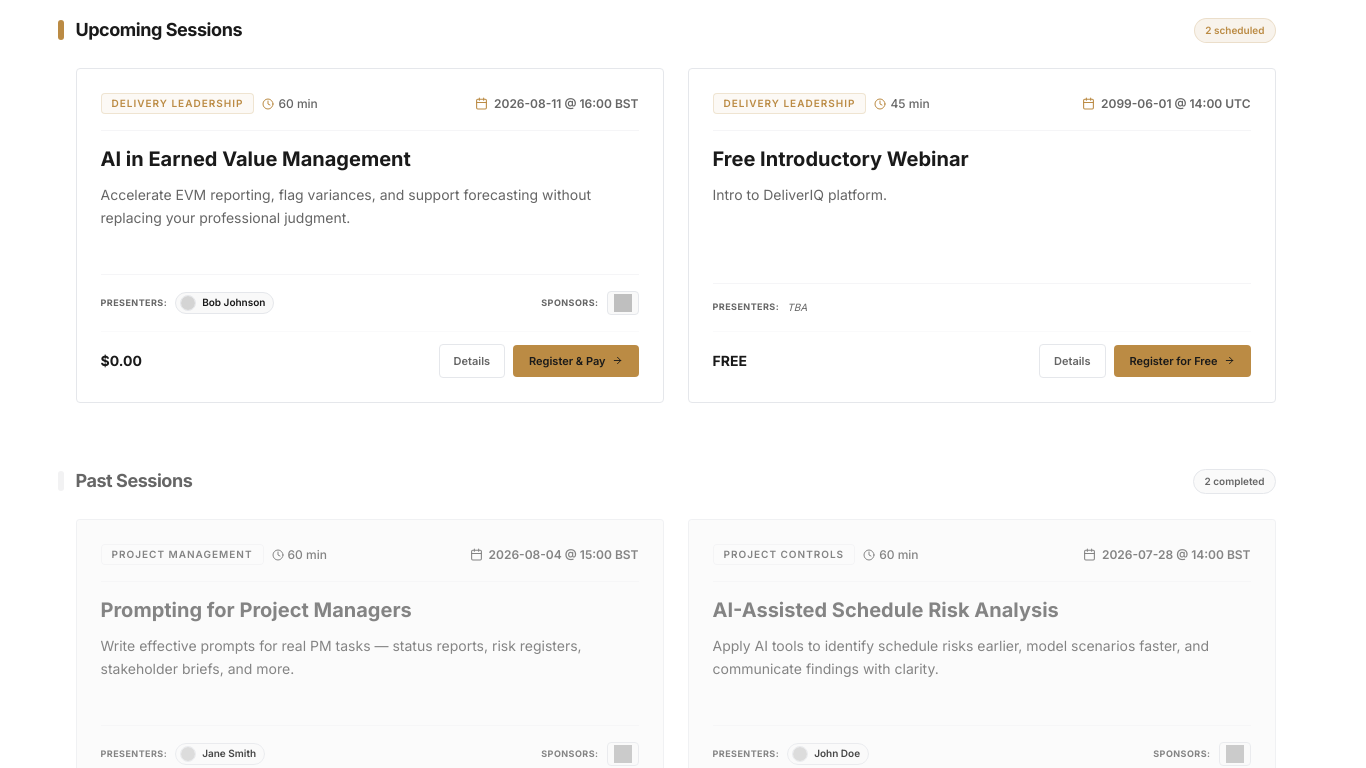
Test: SessionsList Pricing Display › renders Free · Included badge for free sessions inside modal
This screenshot has width=1366, height=768.
// Open session modal by clicking title
Click the button "Free Introductory Webinar".
click(841, 160)  # box [712, 147, 969, 172]
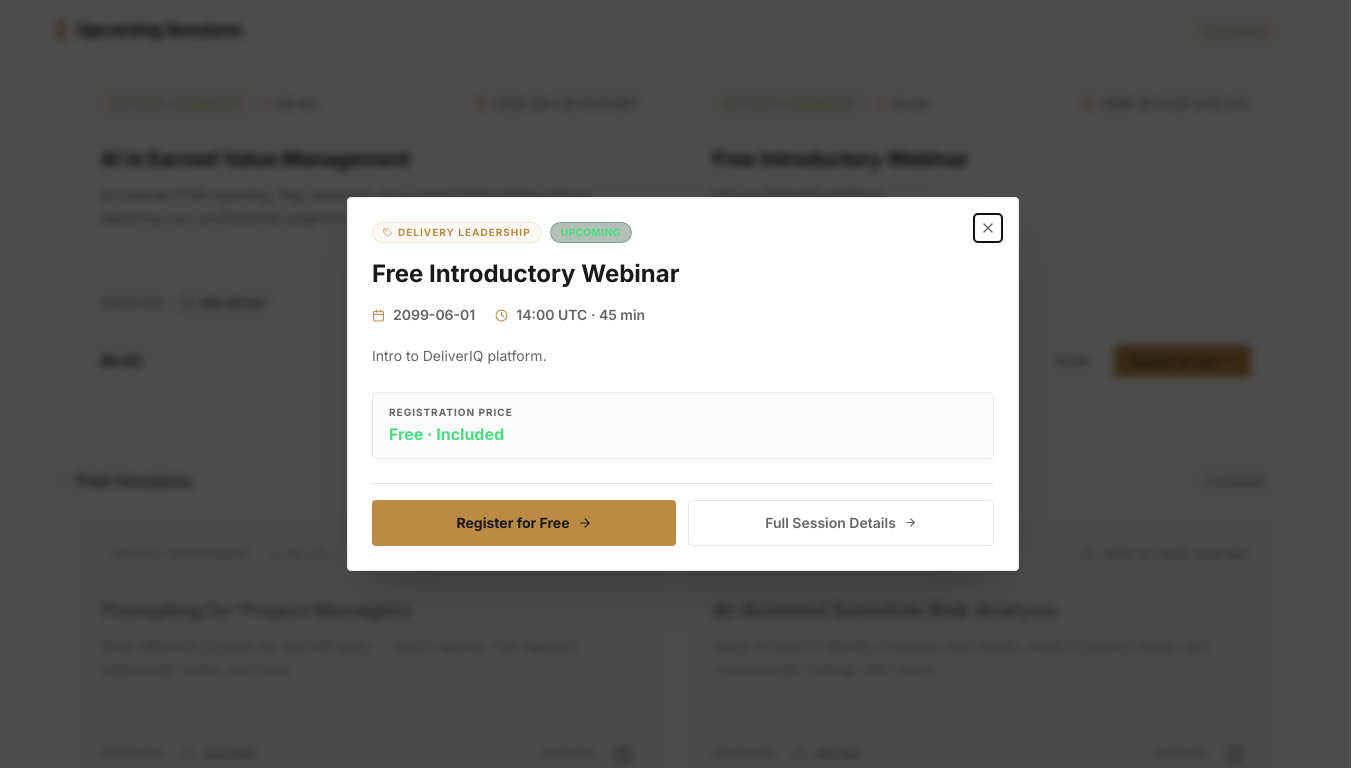
Check: the text "Registration Price" is shown, box [389, 405, 513, 420]
Check: the text "Free · Included" is shown, box [389, 422, 513, 446]
